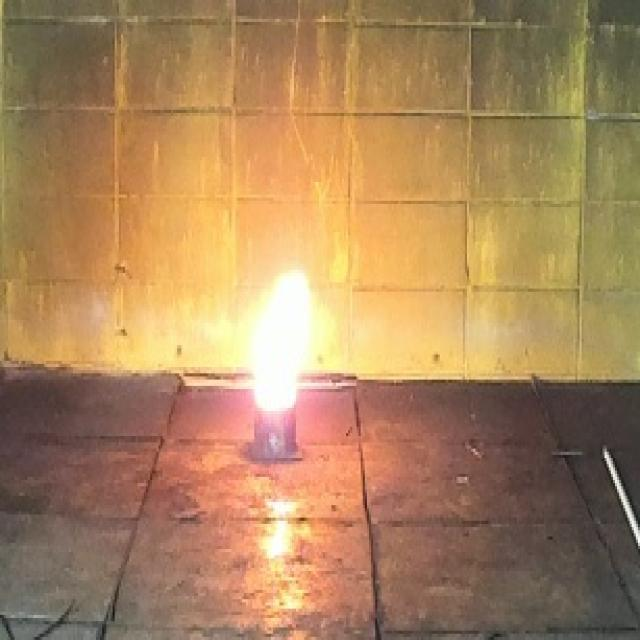Fire: (252, 268, 311, 412)
